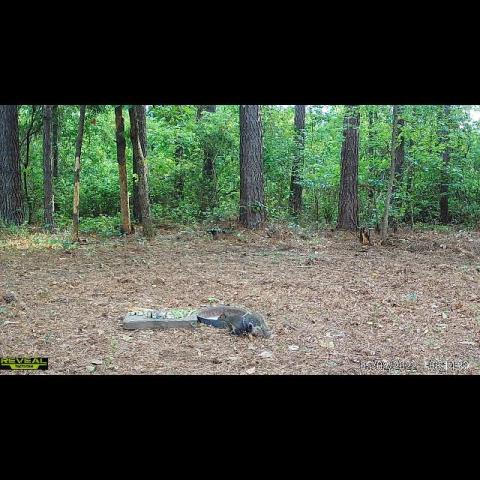small_animal: (215, 306, 271, 340)
